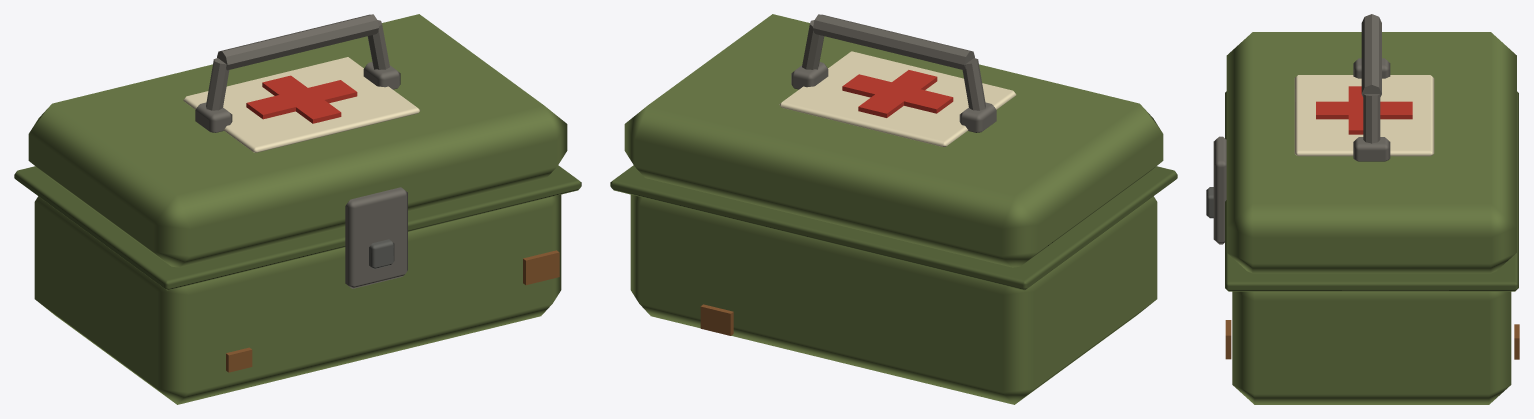
File: SupplyMedkit.glb
3 views of the same model, side by side, from view 1: azimuth 30°, elevation 25°; view 2: azimuth 150°, elevation 25°; view 3: azimuth 270°, elevation 25° (orthographic). The views are drawn at different scales.
Parts seen in each view (by area): view 1: SupplyMedkit.001; view 2: SupplyMedkit.001; view 3: SupplyMedkit.001.
Boxes of the visible parts, x1=… form: SupplyMedkit.001: x1=14, y1=14, x2=581, y2=404; SupplyMedkit.001: x1=610, y1=14, x2=1177, y2=404; SupplyMedkit.001: x1=1206, y1=14, x2=1519, y2=404.
Size of the model in its own units: 0.248 by 0.1605 by 0.1685.
